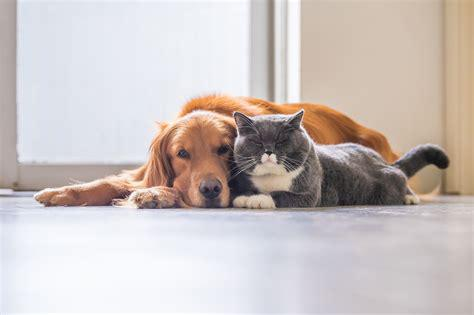cat: (233, 110, 448, 208)
dog: (34, 95, 398, 209)
